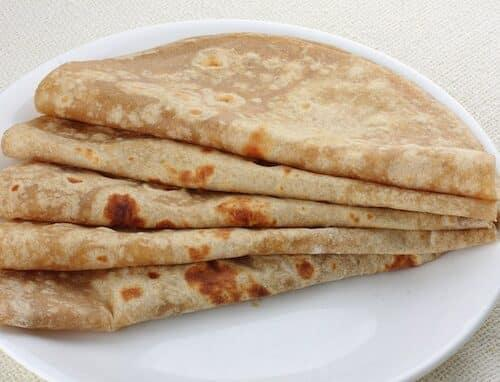roti: (0, 31, 500, 333)
